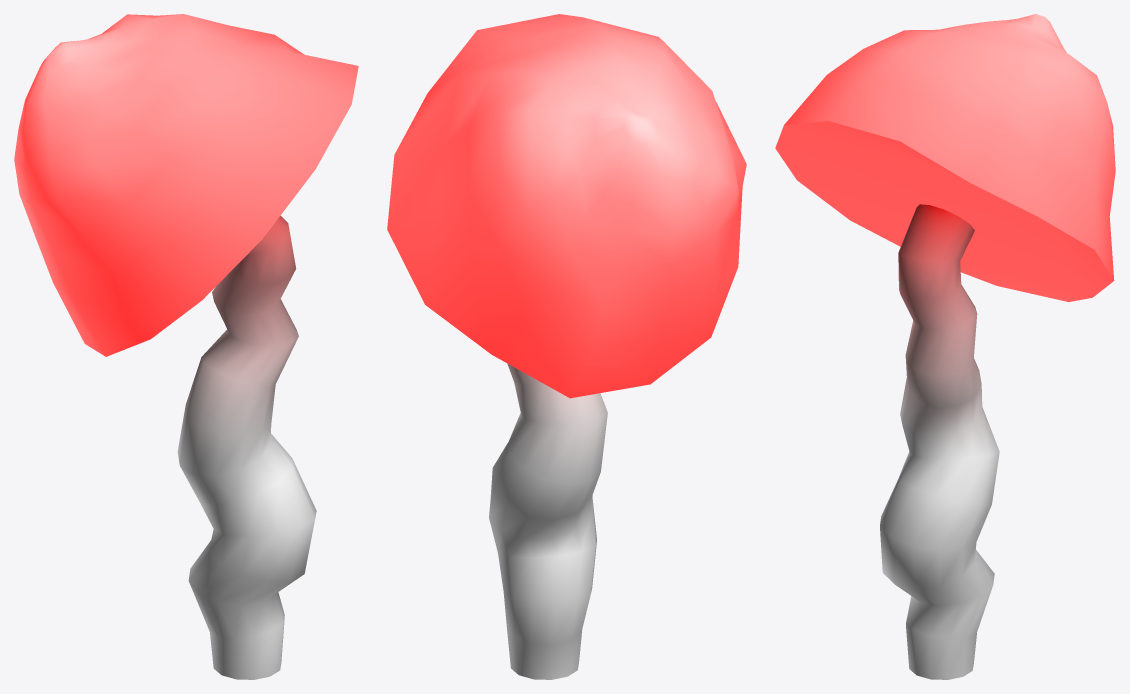
The model's file is mushroom_6.glb.
3 views of the same model, side by side, from view 1: azimuth 30°, elevation 25°; view 2: azimuth 150°, elevation 25°; view 3: azimuth 270°, elevation 25° (orthographic). The views are drawn at different scales.
Visible parts, largest first — view 1: geo1; view 2: geo1; view 3: geo1.
Part boxes in pixels (bbox=[...]): geo1: bbox=[14, 14, 358, 679]; geo1: bbox=[387, 14, 746, 679]; geo1: bbox=[775, 14, 1115, 679].
Size of the model in its own units: 0.1341 by 0.2761 by 0.1412.
